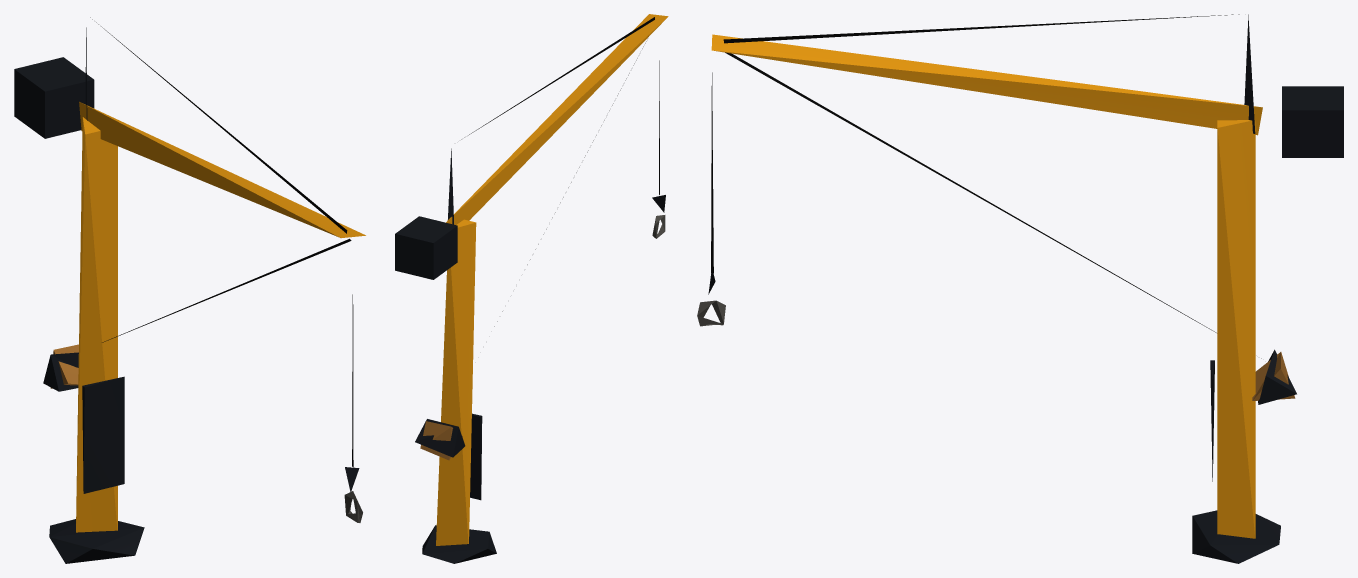
File: tb_upg_salvage_crane.three-web-toon.lod25.glb
3 renders of one model, left to right at view 1: azimuth 30°, elevation 25°; view 2: azimuth 150°, elevation 25°; view 3: azimuth 270°, elevation 25°, orthographic. The views are drawn at different scales.
Visible parts, largest first — view 1: salvage_crane_mesh_lod; view 2: salvage_crane_mesh_lod; view 3: salvage_crane_mesh_lod.
Boxes of the visible parts, x1=… form: salvage_crane_mesh_lod: x1=14, y1=17, x2=365, y2=563; salvage_crane_mesh_lod: x1=395, y1=14, x2=668, y2=563; salvage_crane_mesh_lod: x1=697, y1=14, x2=1343, y2=563.
Bounding box in the file's own units: 0.4079 × 2.45 × 2.71.
